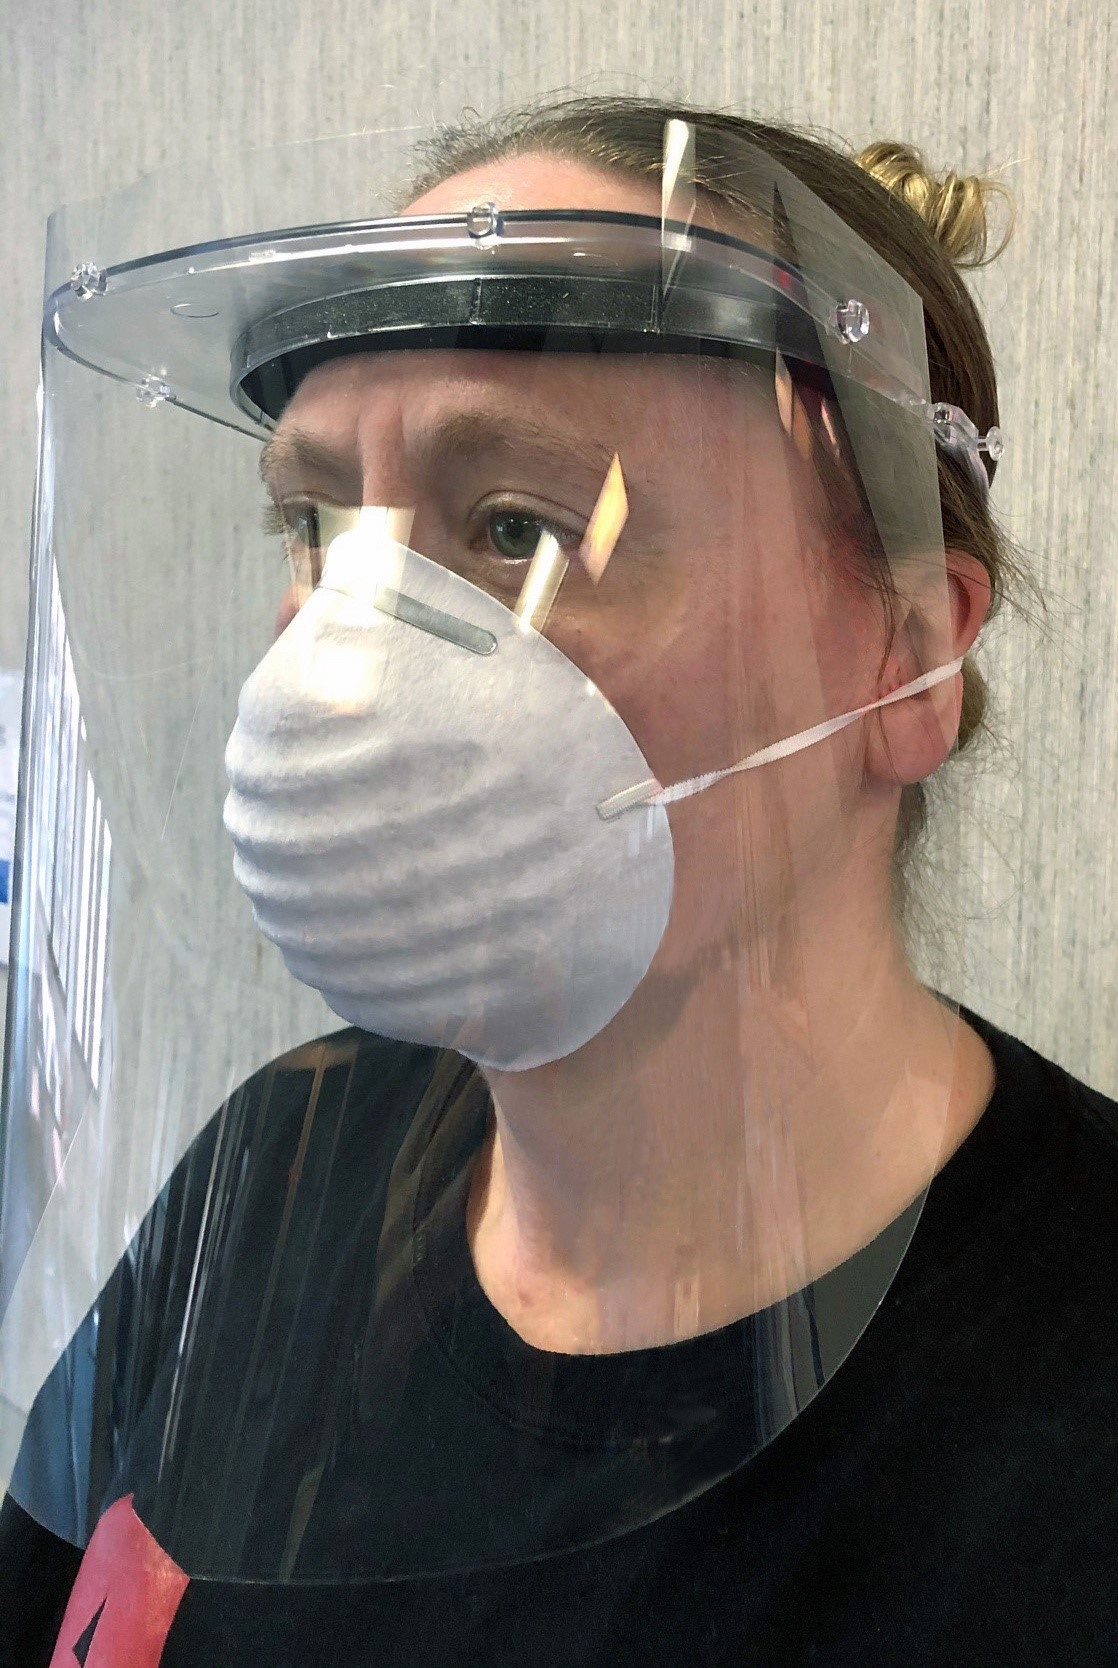face_with_mask: (7, 111, 993, 1179)
